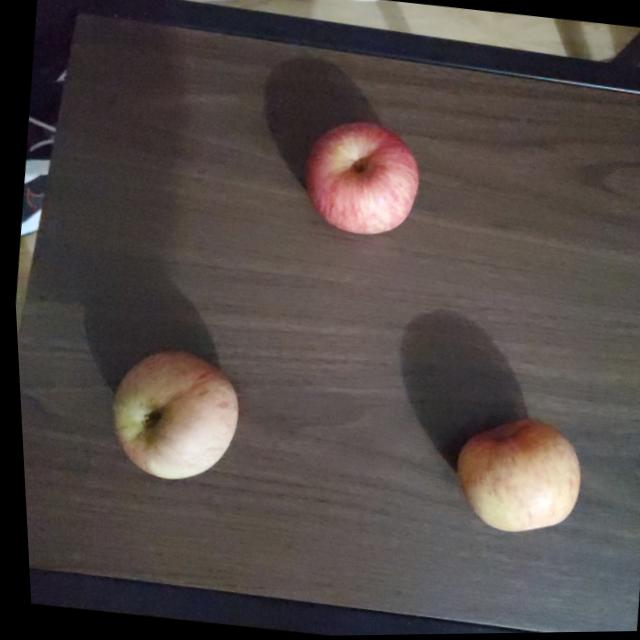apple: (101, 343, 243, 487), (441, 415, 585, 545), (298, 118, 428, 244)
